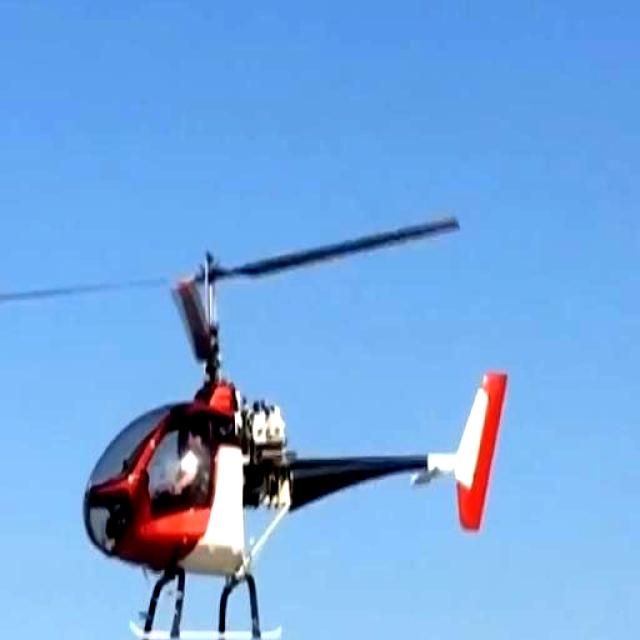drone: (0, 211, 512, 640)
